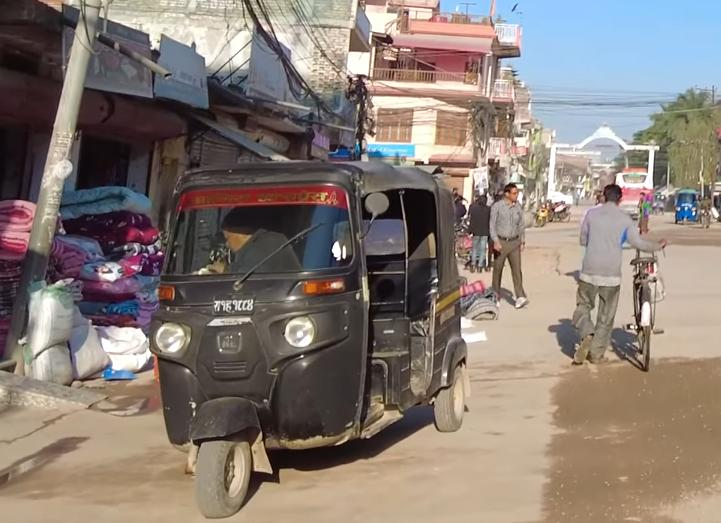auto_rickshaw: (146, 146, 482, 522), (672, 188, 701, 228)
